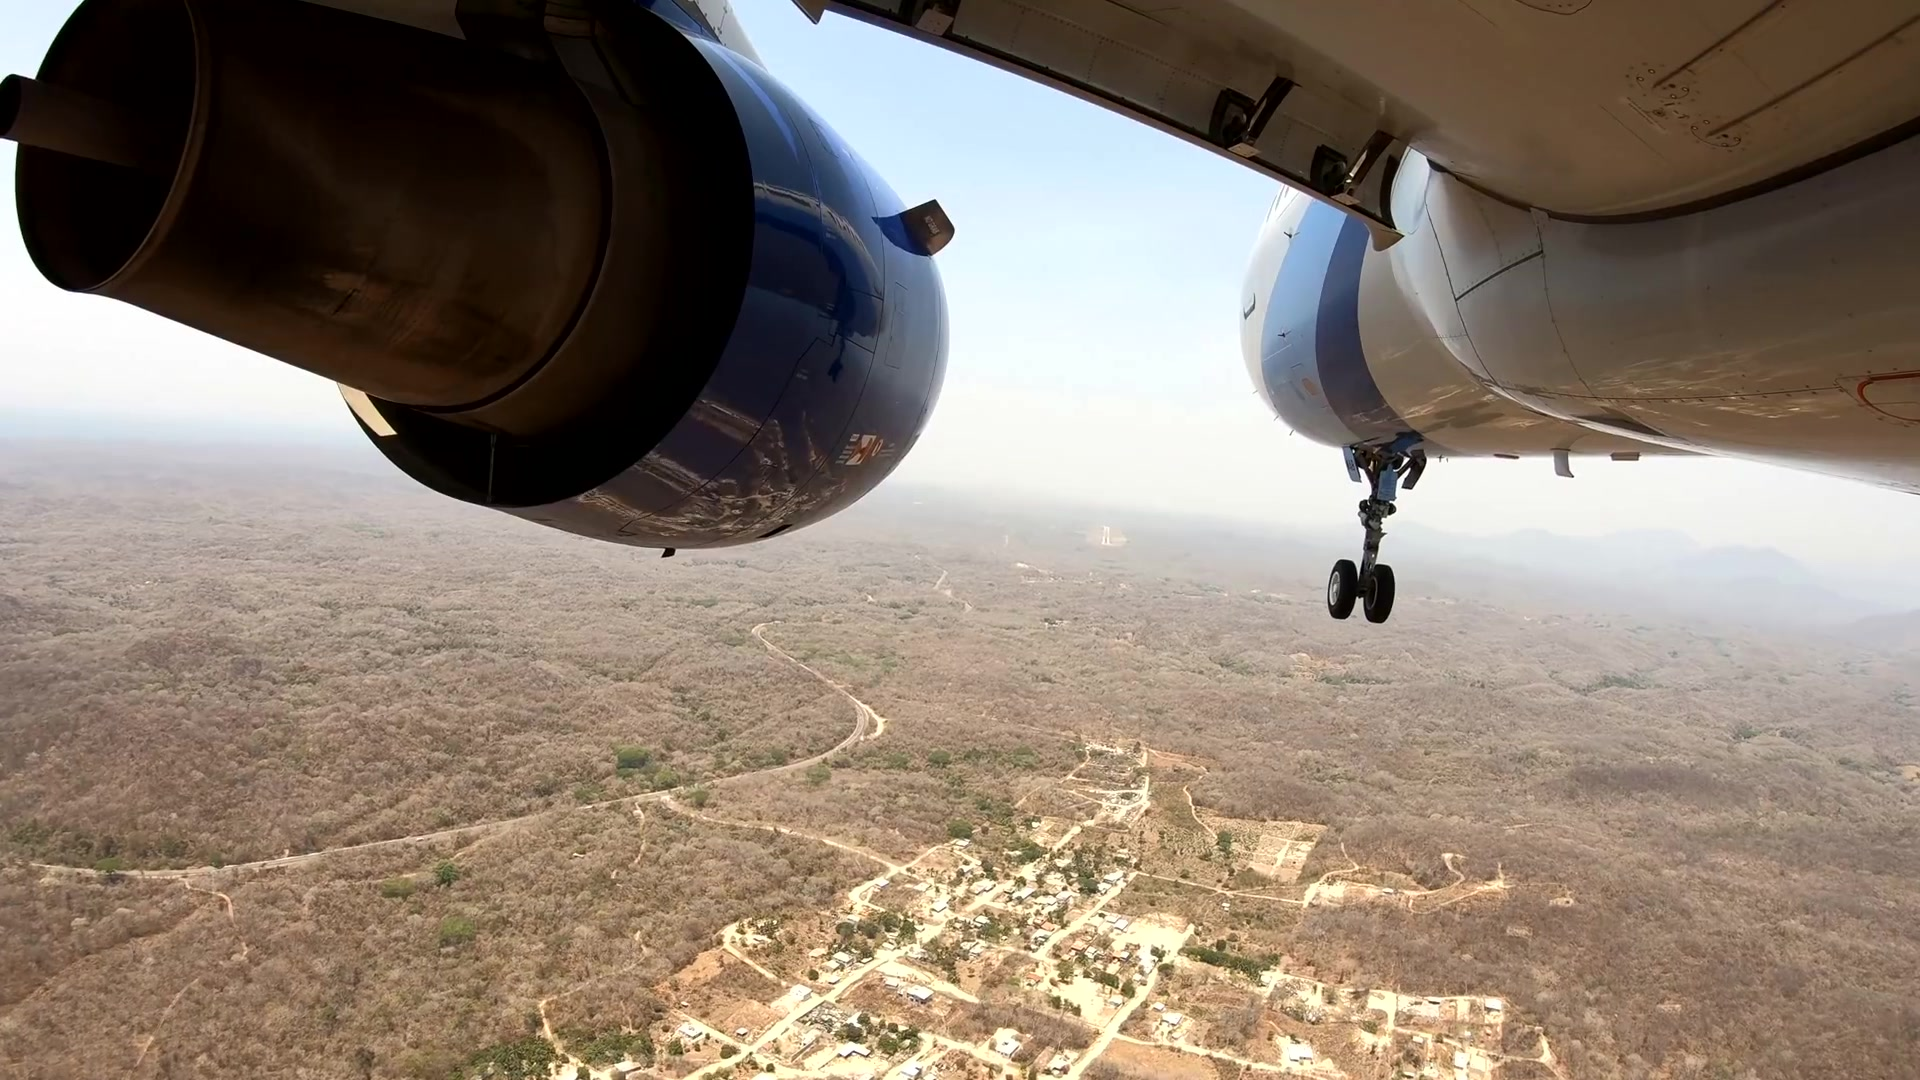runway: (1098, 526, 1116, 546)
